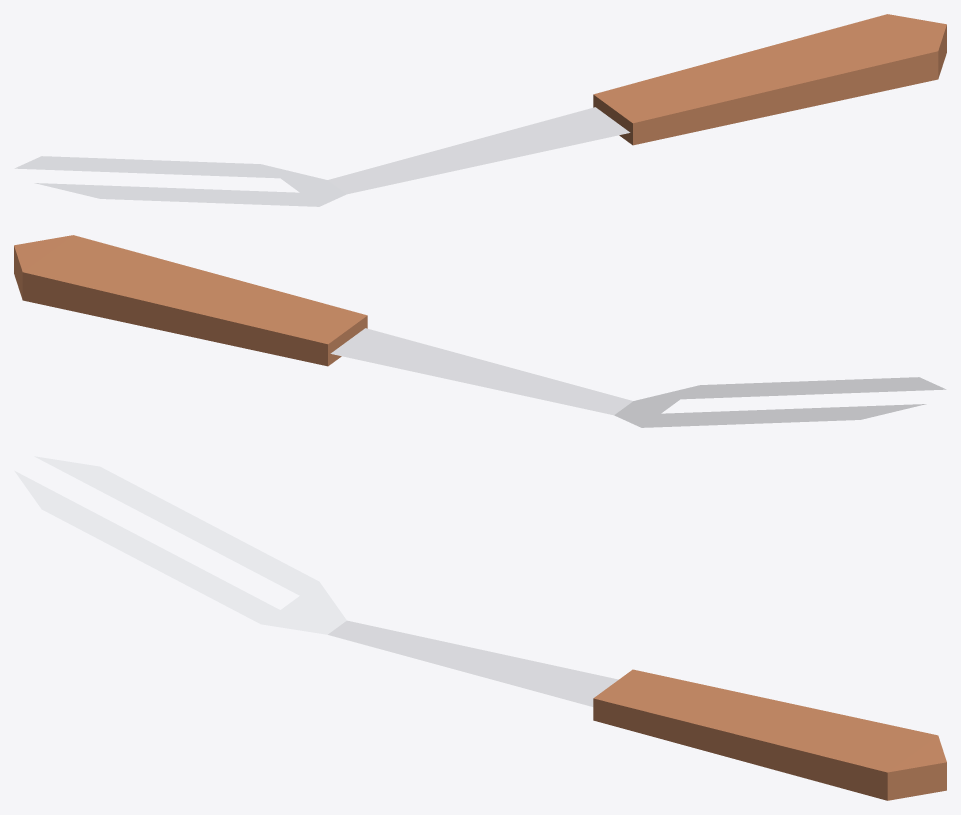
File: cookingFork.fbx
The picture shows the model from 3 angles, top to bottom: view 1: azimuth 30°, elevation 25°; view 2: azimuth 150°, elevation 25°; view 3: azimuth 330°, elevation 25°; orthographic projection.
Visible parts, largest first — view 1: cookingFork; view 2: cookingFork; view 3: cookingFork.
Part boxes in pixels (left/top/right/bottom): cookingFork: left=14, top=14, right=946, bottom=206; cookingFork: left=14, top=235, right=946, bottom=427; cookingFork: left=14, top=456, right=946, bottom=800.
Bounding box in the file's own units: 6.83 × 0.7212 × 0.7493.
